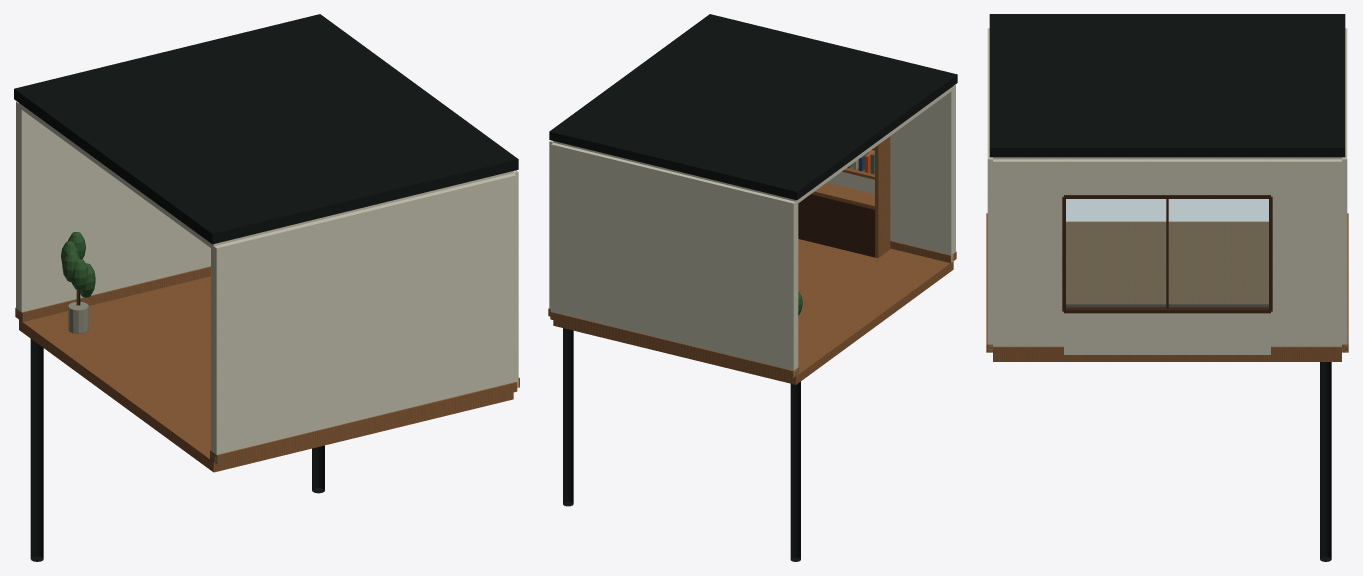
Rendered from office_right.glb.
3 renders of one model, left to right at view 1: azimuth 30°, elevation 25°; view 2: azimuth 150°, elevation 25°; view 3: azimuth 270°, elevation 25°, orthographic. The views are drawn at different scales.
Parts seen in each view (by area): view 1: V2_office_right_plaster.005, V2_office_right_metal.005, V2_office_right_oak.005, V2_office_right_leaf.005, V2_office_right_stone.005; view 2: V2_office_right_plaster.005, V2_office_right_metal.005, V2_office_right_oak.005, V2_office_right_walnut.005; view 3: V2_office_right_metal.005, V2_office_right_plaster.005, V2_office_right_glass.005, V2_office_right_oak.005, V2_office_right_walnut.005.
Part boxes in pixels (x1=…): V2_office_right_plaster.005: x1=16, y1=101, x2=518, y2=463; V2_office_right_metal.005: x1=14, y1=14, x2=518, y2=561; V2_office_right_oak.005: x1=15, y1=266, x2=519, y2=472; V2_office_right_leaf.005: x1=61, y1=232, x2=95, y2=297; V2_office_right_stone.005: x1=68, y1=302, x2=88, y2=333; V2_office_right_plaster.005: x1=549, y1=84, x2=955, y2=375; V2_office_right_metal.005: x1=549, y1=14, x2=957, y2=561; V2_office_right_oak.005: x1=548, y1=136, x2=956, y2=384; V2_office_right_walnut.005: x1=798, y1=193, x2=874, y2=257; V2_office_right_metal.005: x1=989, y1=14, x2=1345, y2=561; V2_office_right_plaster.005: x1=987, y1=28, x2=1347, y2=354; V2_office_right_glass.005: x1=1066, y1=199, x2=1268, y2=306; V2_office_right_oak.005: x1=986, y1=213, x2=1348, y2=361; V2_office_right_walnut.005: x1=1062, y1=195, x2=1272, y2=313.
Size of the model in its own units: 4.96 by 7.12 by 5.6.
Materials: 12 (5 with a texture image).
